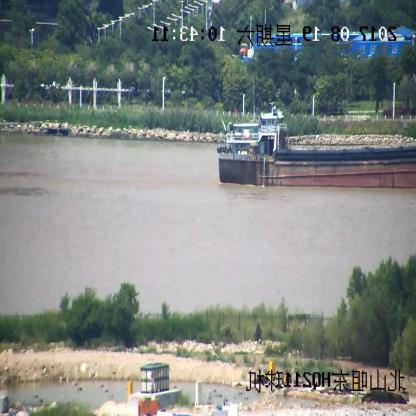Bulk Carrier: (219, 101, 416, 186)
